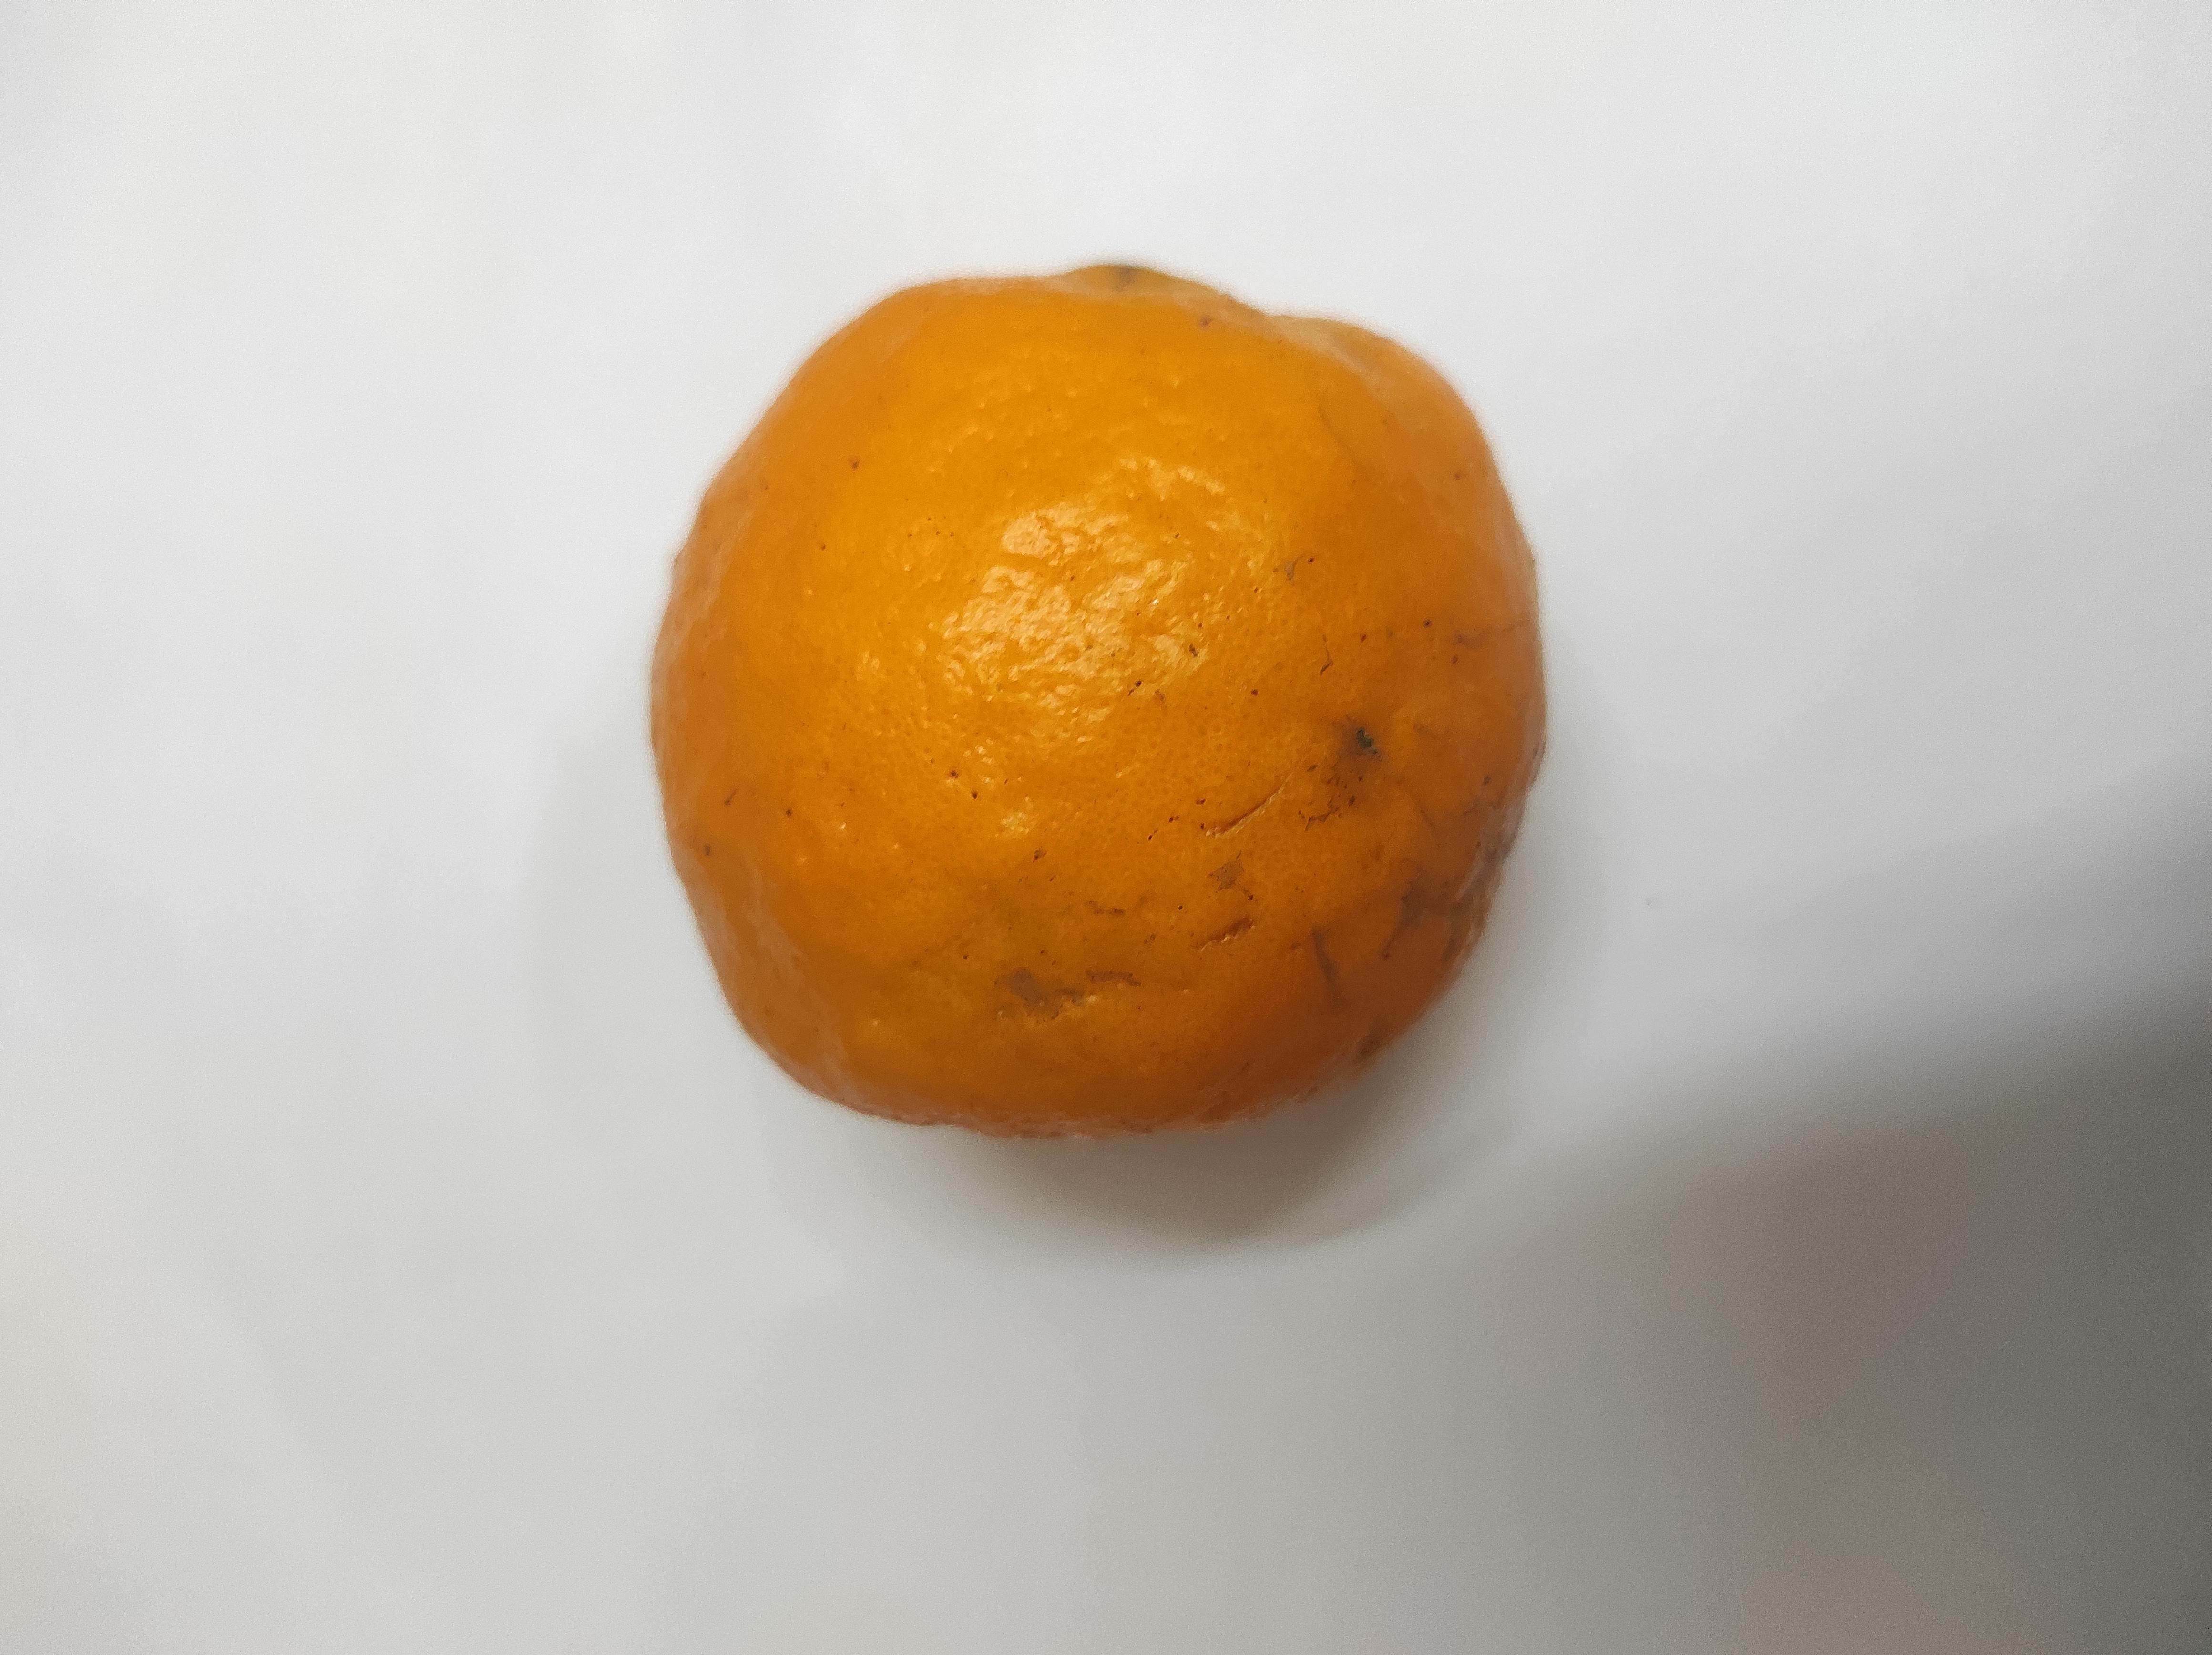Ripe: (689, 485, 1885, 1160)
